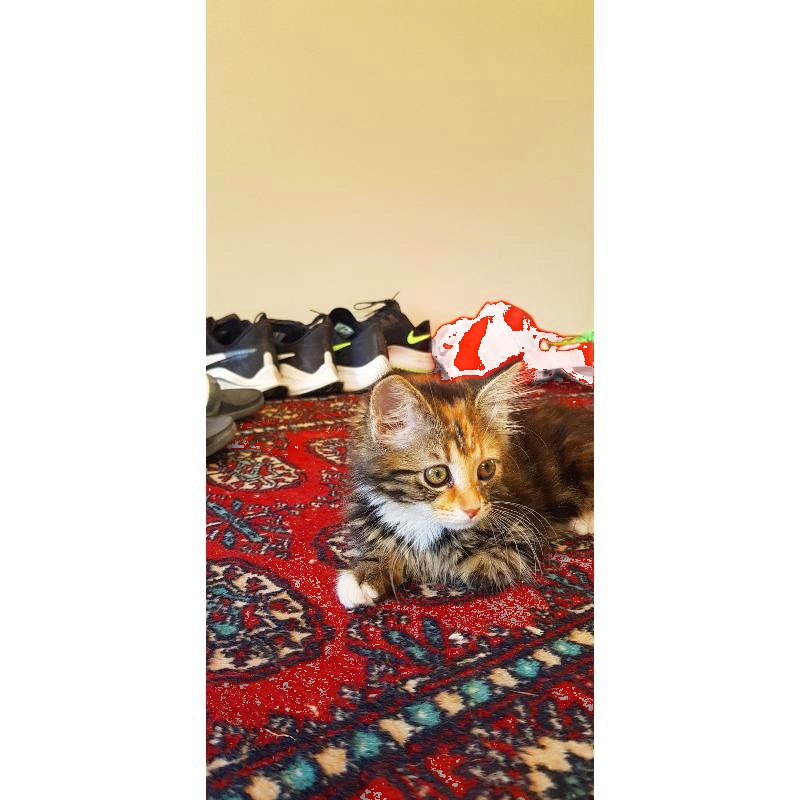red: (335, 361, 595, 609)
